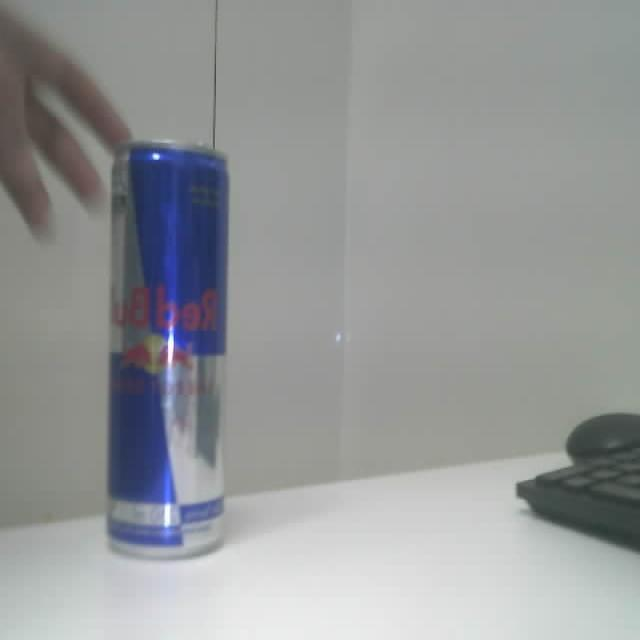redbull can: (108, 142, 227, 557)
